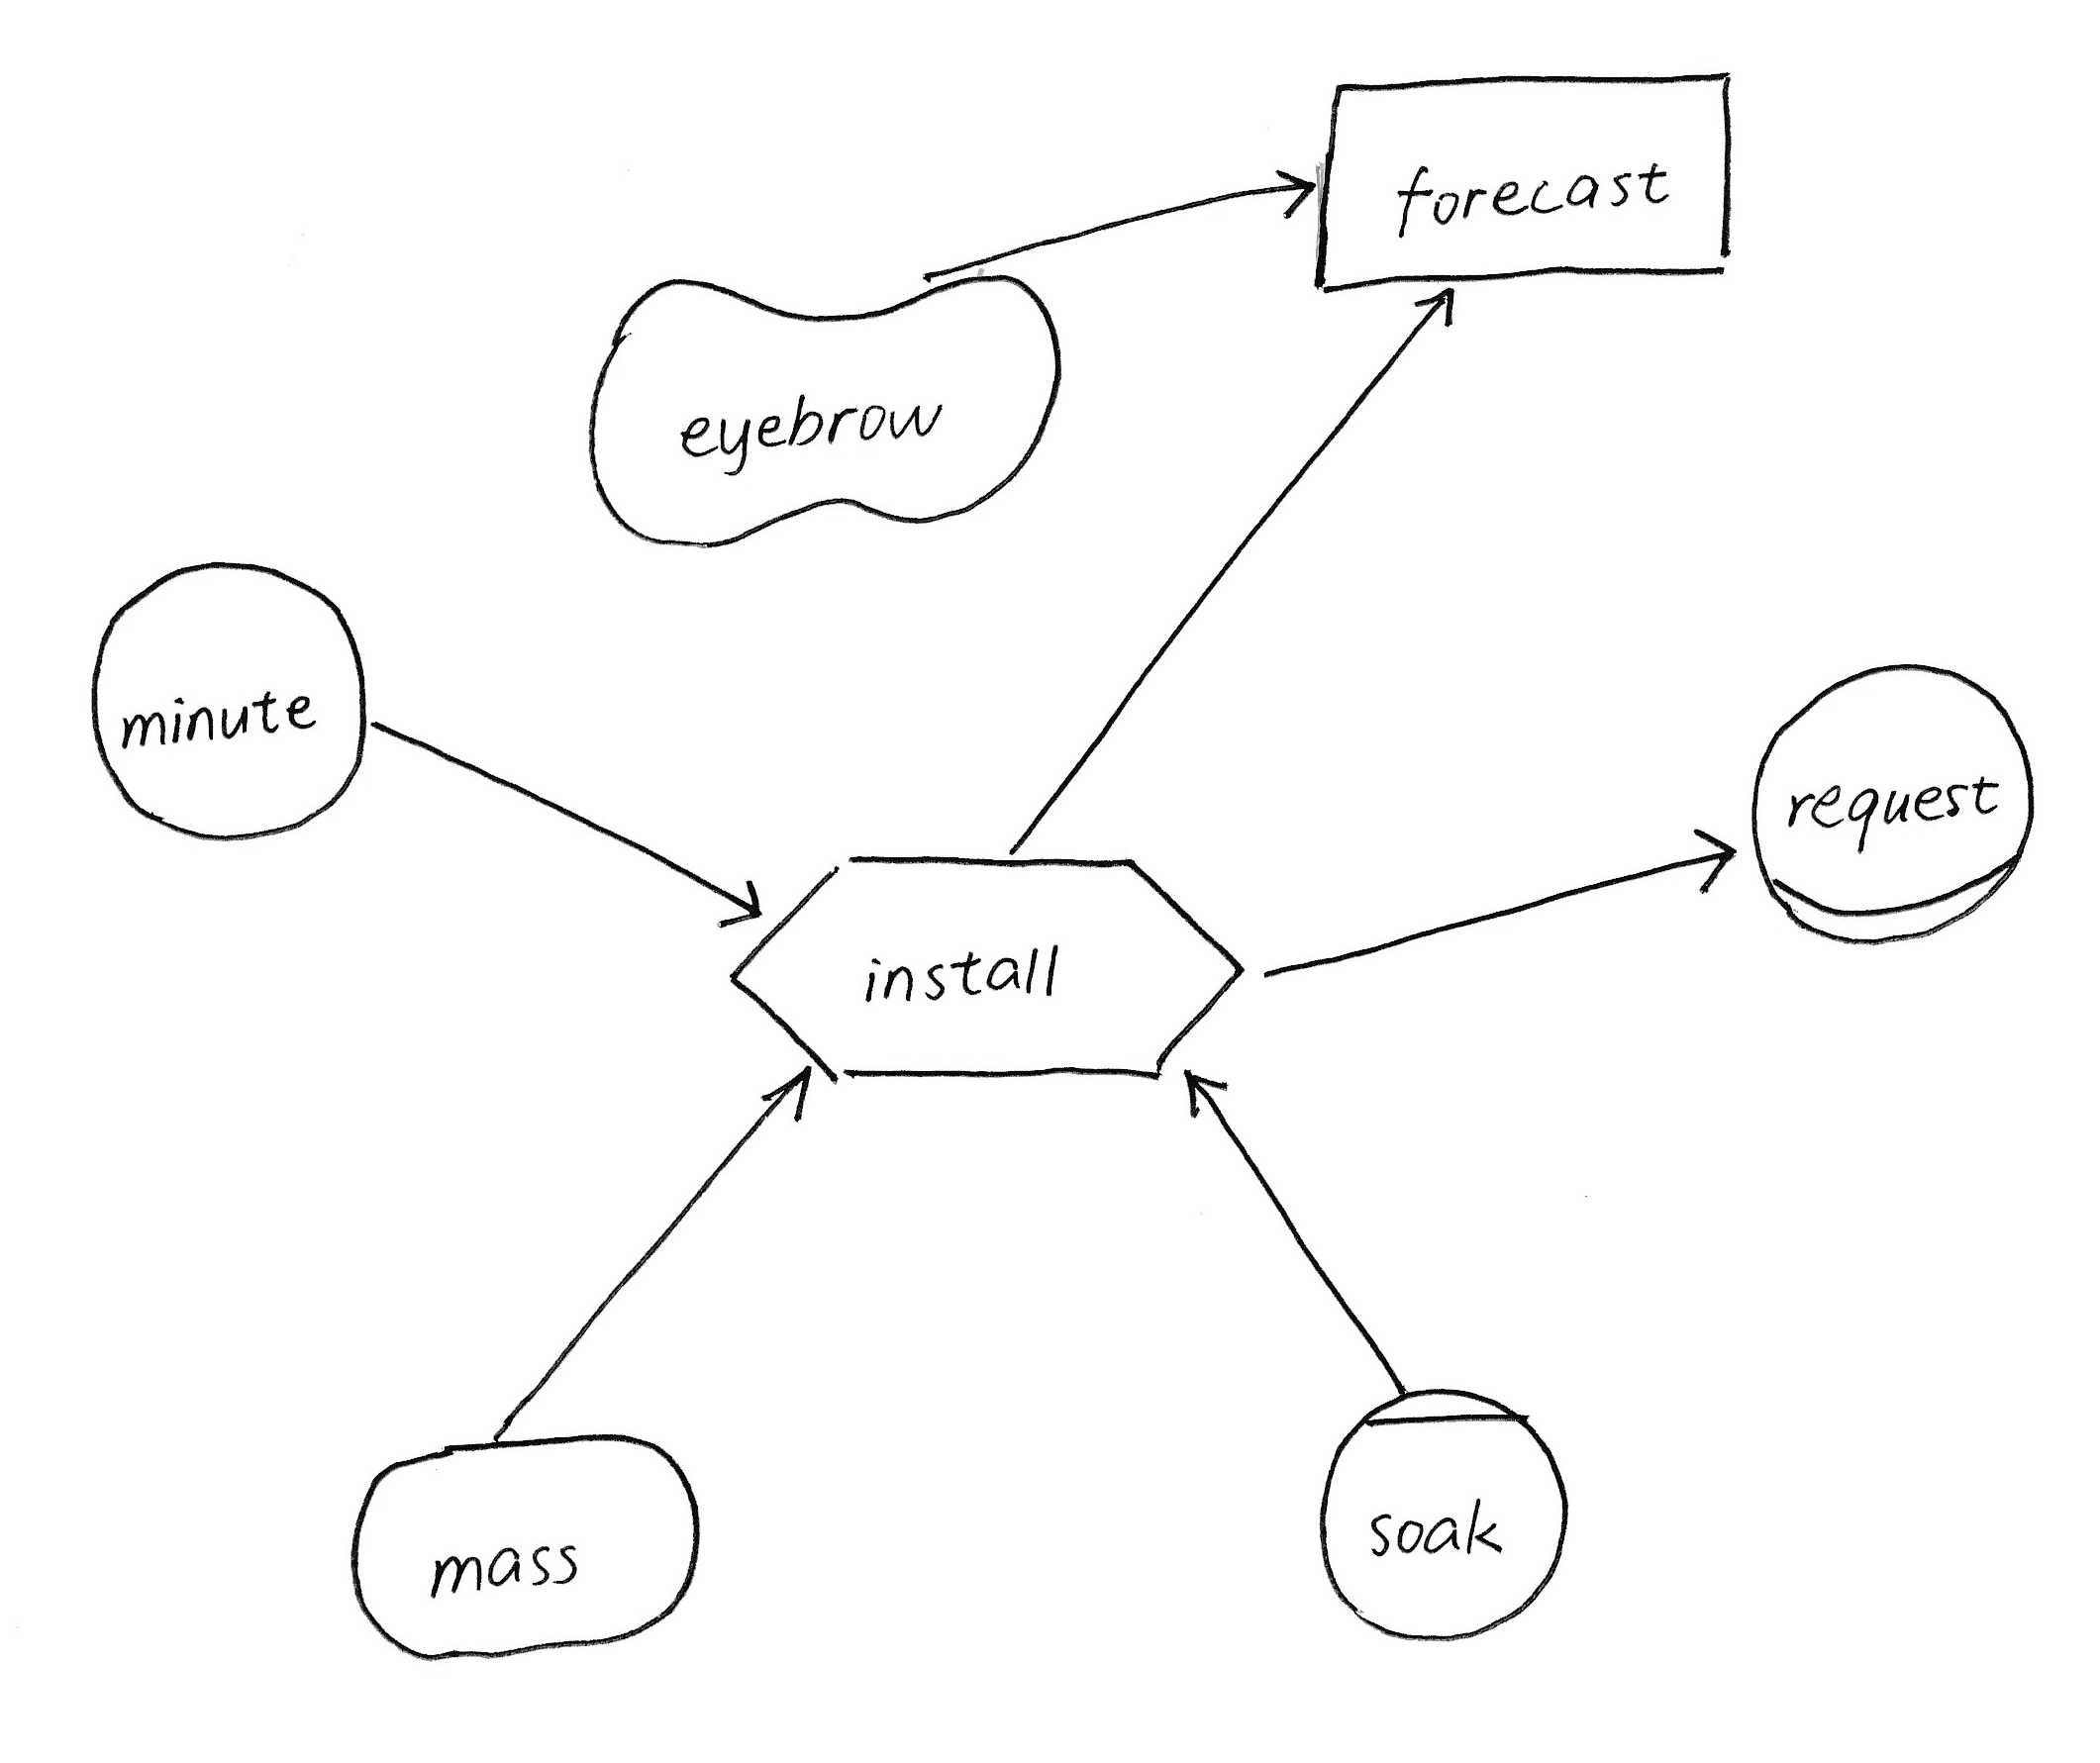actor: (70, 546, 392, 855)
agent: (1308, 1375, 1584, 1651)
arrow: (1677, 806, 1752, 902), (1159, 1051, 1248, 1132), (698, 859, 773, 951), (1257, 142, 1327, 234), (748, 1055, 831, 1133), (1401, 275, 1469, 339)
goal: (330, 1415, 731, 1670)
quality: (560, 255, 1079, 561)
resource: (1296, 59, 1754, 306)
role: (1729, 644, 2056, 957)
task: (708, 827, 1266, 1105)
